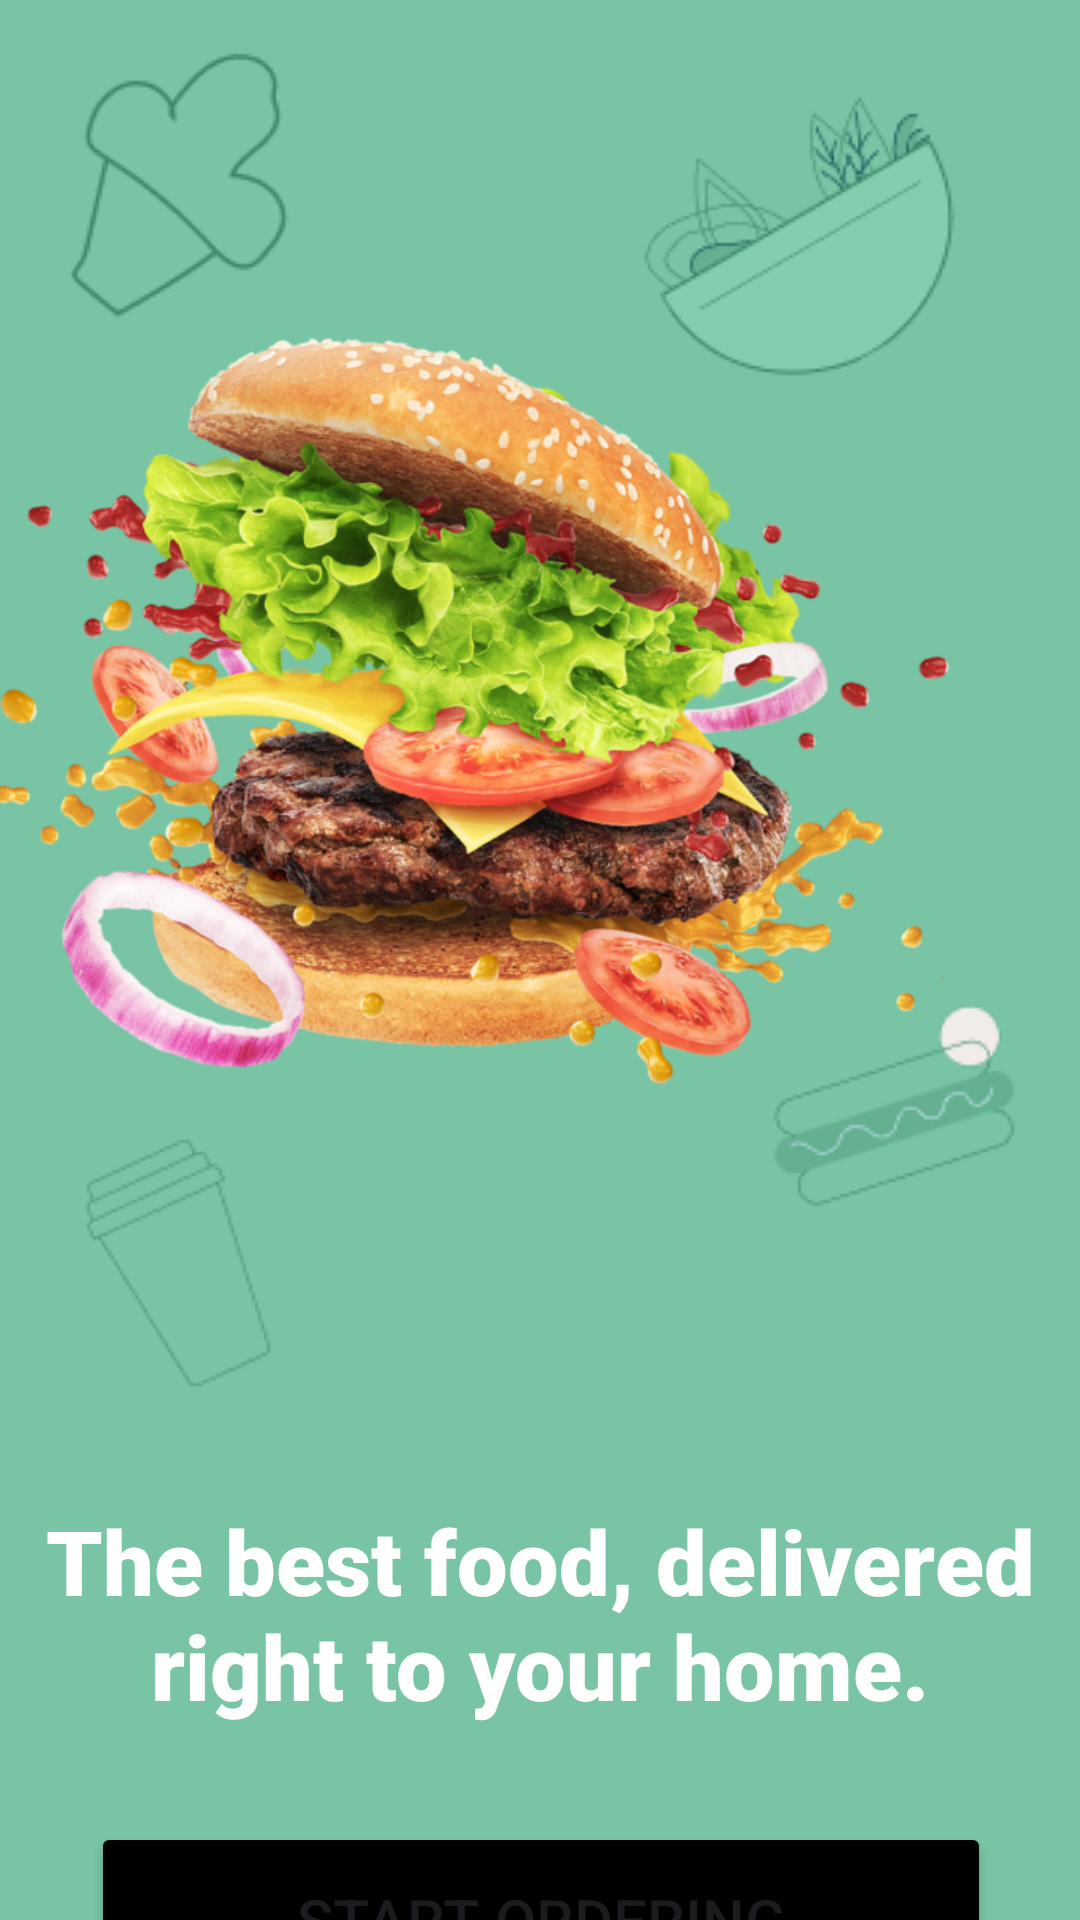

Screen size 1080*1920. Icon name, then its center in pixels as [x,y]:
bowl: [799,237]
cup: [178,1263]
hotdog: [895,1099]
icecream: [179,185]
